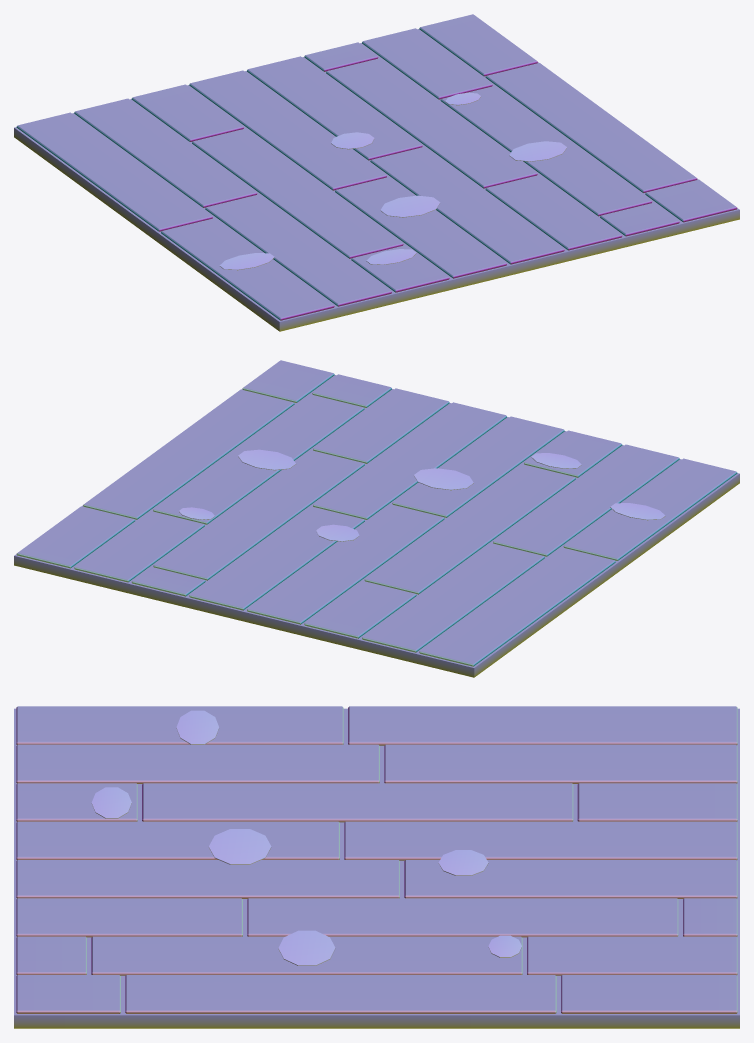
The model's file is env_floor_wood_dusty.glb.
3 views of the same model, one above another, from view 1: azimuth 30°, elevation 25°; view 2: azimuth 150°, elevation 25°; view 3: azimuth 270°, elevation 25° (orthographic). The views are drawn at different scales.
Visible parts, largest first — view 1: env_floor_wood_dusty_mesh; view 2: env_floor_wood_dusty_mesh; view 3: env_floor_wood_dusty_mesh.
Part boxes in pixels (bbox=[...]): env_floor_wood_dusty_mesh: bbox=[14, 14, 739, 331]; env_floor_wood_dusty_mesh: bbox=[14, 360, 739, 677]; env_floor_wood_dusty_mesh: bbox=[14, 706, 739, 1028].
Size of the model in its own units: 2 by 0.054 by 2.
